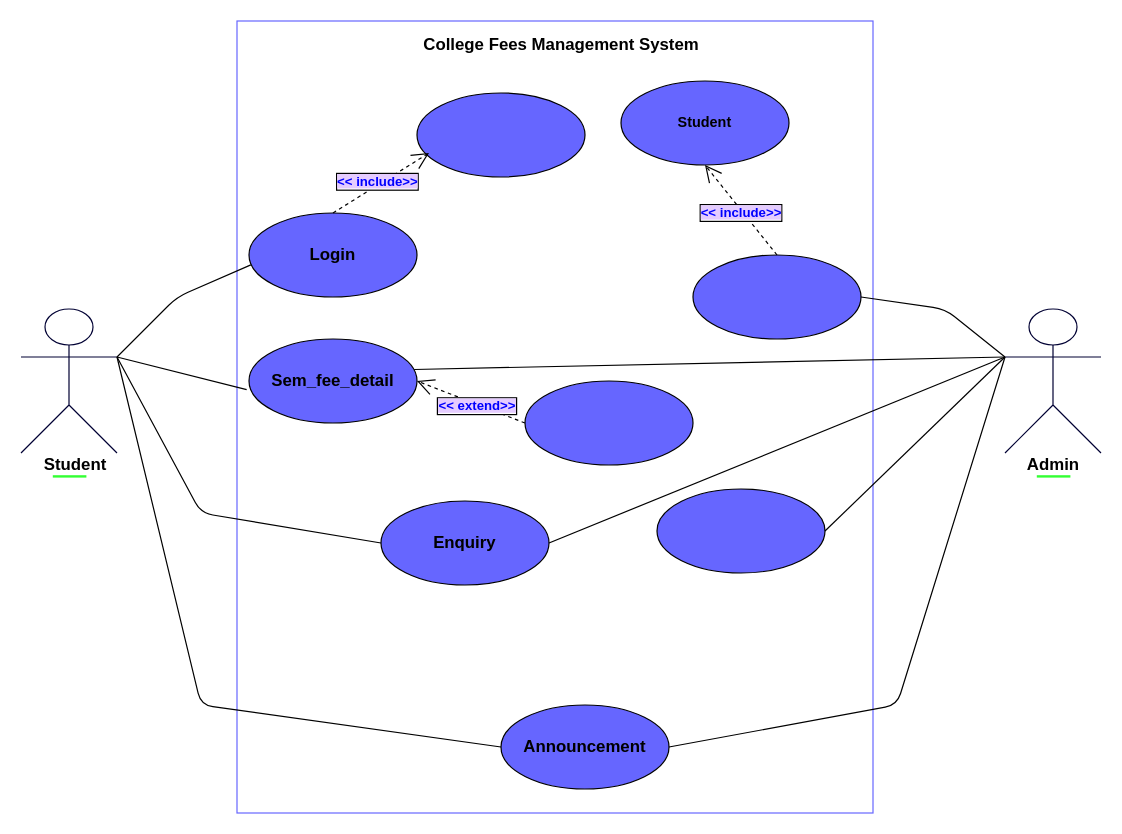
Some shapes in this 1122 by 834 pixel diagram are drawn without their labels. Each missing label, with the centre of its shape:
Check_student credential: [500,134]
Create_new_sem: [740,530]
Registration: [776,296]
Update_sem_fee detail: [608,422]
